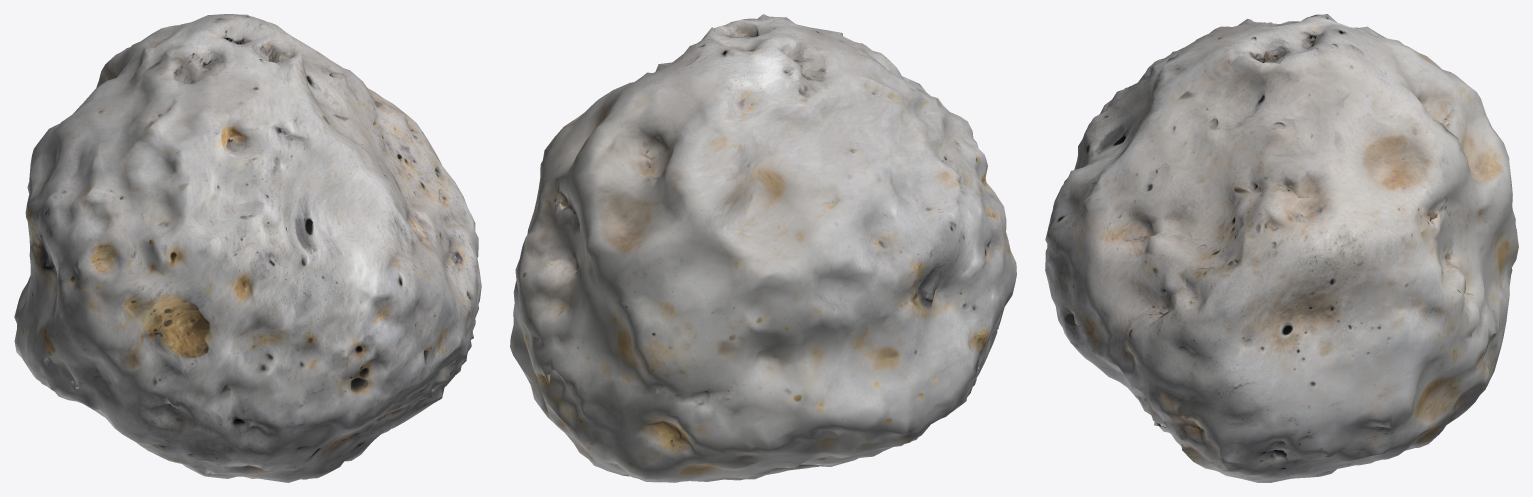
The model's file is asteroid.glb.
The picture shows the model from 3 angles, left to right: view 1: azimuth 30°, elevation 25°; view 2: azimuth 150°, elevation 25°; view 3: azimuth 270°, elevation 25°; orthographic projection. The views are drawn at different scales.
Bounding box in the file's own units: 2 × 1.95 × 1.99.
Materials: 1 (1 with a texture image).
